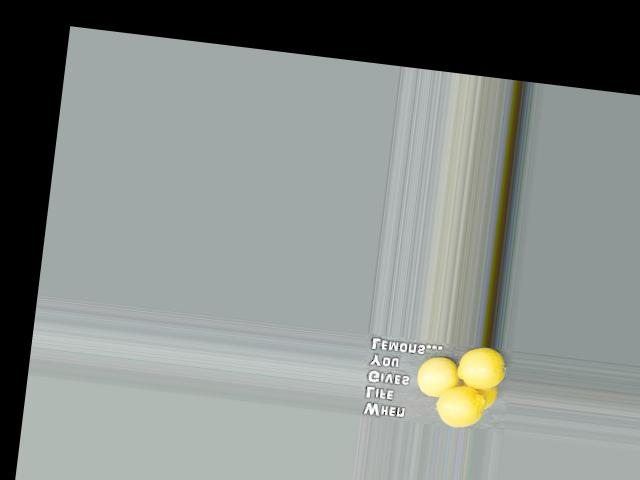lemon: (453, 347, 507, 391)
